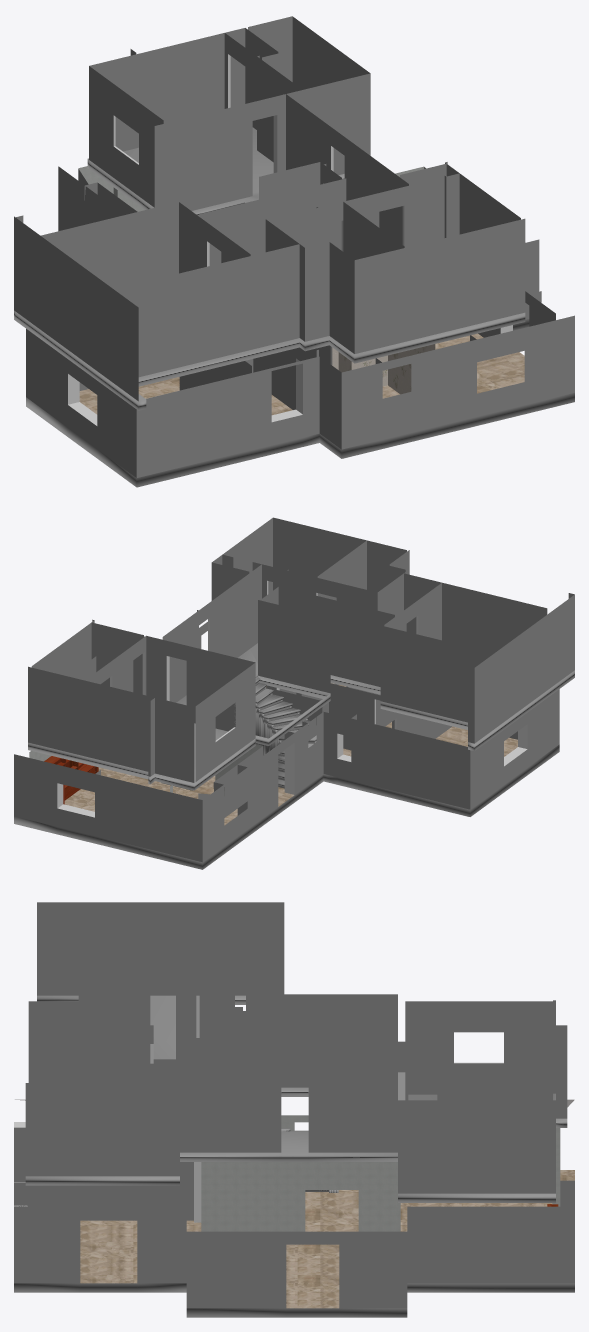
File: housemaker_export.glb
3 views of the same model, one above another, from view 1: azimuth 30°, elevation 25°; view 2: azimuth 150°, elevation 25°; view 3: azimuth 270°, elevation 25° (orthographic). The views are drawn at different scales.
Visible parts, largest first — view 1: room_static_16_level_3, room_static_0_level_2, room_static_18_room_f37d7d5e06cf61ce, room_static_20_room_eb581e3accd56182, room_static_17_room_27cd459252e6fa12, room_static_15, room_static_21_room_e33ff4cc4f70da18, room_static_24_room_b7c5865047dece0b, room_static_19_room_b41f9a6a62f4ab7f, room_static_1_room_a98b82358c6d3a95, room_static_3_room_7bcb67c14bdc90ec, housemaker_atlas_82670ba7-f511-44c9-b72b-7c51cf8760ca_room_d (+7 smaller); view 2: room_static_16_level_3, room_static_0_level_2, room_static_18_room_f37d7d5e06cf61ce, room_static_15, room_static_17_room_27cd459252e6fa12, room_static_20_room_eb581e3accd56182, room_static_21_room_e33ff4cc4f70da18, room_static_2_room_2b0a8e3883e423c8, room_static_24_room_b7c5865047dece0b, room_static_19_room_b41f9a6a62f4ab7f, room_static_1_room_a98b82358c6d3a95, housemaker_atlas_82670ba7-f511-44c9-b72b-7c51cf8760ca_room_a (+8 smaller); view 3: room_static_16_level_3, room_static_0_level_2, housemaker_atlas_82670ba7-f511-44c9-b72b-7c51cf8760ca_room_a, room_static_17_room_27cd459252e6fa12, room_static_20_room_eb581e3accd56182, room_static_21_room_e33ff4cc4f70da18, room_static_15, room_static_7_room_e89602ca24d22eac, room_static_18_room_f37d7d5e06cf61ce, room_static_19_room_b41f9a6a62f4ab7f, room_static_24_room_b7c5865047dece0b, housemaker_atlas_82670ba7-f511-44c9-b72b-7c51cf8760ca_room_e (+6 smaller).
Boxes of the visible parts, x1,y1,x2,y2 form: room_static_16_level_3: (14, 32, 525, 401); room_static_0_level_2: (26, 166, 574, 477); room_static_18_room_f37d7d5e06cf61ce: (199, 94, 408, 265); room_static_20_room_eb581e3accd56182: (91, 33, 299, 192); room_static_17_room_27cd459252e6fa12: (48, 202, 250, 294); room_static_15: (14, 198, 574, 487); room_static_21_room_e33ff4cc4f70da18: (346, 163, 520, 247); room_static_24_room_b7c5865047dece0b: (248, 16, 366, 90); room_static_19_room_b41f9a6a62f4ab7f: (270, 201, 404, 260); room_static_1_room_a98b82358c6d3a95: (79, 338, 299, 390); room_static_3_room_7bcb67c14bdc90ec: (245, 338, 328, 409); housemaker_atlas_82670ba7-f511-44c9-b72b-7c51cf8760ca_room_d: (79, 333, 524, 415); room_static_16_level_3: (28, 540, 574, 782); room_static_0_level_2: (14, 687, 559, 862); room_static_18_room_f37d7d5e06cf61ce: (162, 564, 439, 705); room_static_15: (14, 670, 574, 869); room_static_17_room_27cd459252e6fa12: (384, 582, 547, 653); room_static_20_room_eb581e3accd56182: (86, 635, 254, 781); room_static_21_room_e33ff4cc4f70da18: (213, 517, 364, 593); room_static_2_room_2b0a8e3883e423c8: (255, 683, 394, 788); room_static_24_room_b7c5865047dece0b: (31, 622, 143, 694); room_static_19_room_b41f9a6a62f4ab7f: (317, 540, 406, 600); room_static_1_room_a98b82358c6d3a95: (377, 701, 517, 739); housemaker_atlas_82670ba7-f511-44c9-b72b-7c51cf8760ca_room_a: (29, 744, 262, 825); room_static_16_level_3: (25, 902, 567, 1193); room_static_0_level_2: (14, 1122, 574, 1308); housemaker_atlas_82670ba7-f511-44c9-b72b-7c51cf8760ca_room_a: (201, 1128, 560, 1308); room_static_17_room_27cd459252e6fa12: (89, 902, 231, 1046); room_static_20_room_eb581e3accd56182: (405, 1001, 553, 1100); room_static_21_room_e33ff4cc4f70da18: (28, 1026, 176, 1082); room_static_15: (14, 995, 574, 1317); room_static_7_room_e89602ca24d22eac: (25, 1162, 193, 1220); room_static_18_room_f37d7d5e06cf61ce: (89, 967, 308, 1152); room_static_19_room_b41f9a6a62f4ab7f: (28, 989, 150, 1026); room_static_24_room_b7c5865047dece0b: (405, 1067, 552, 1100); housemaker_atlas_82670ba7-f511-44c9-b72b-7c51cf8760ca_room_e: (80, 1222, 137, 1283).
Size of the model in its own units: 31.91 by 12.16 by 32.79.
Materials: 3 (2 with a texture image).
